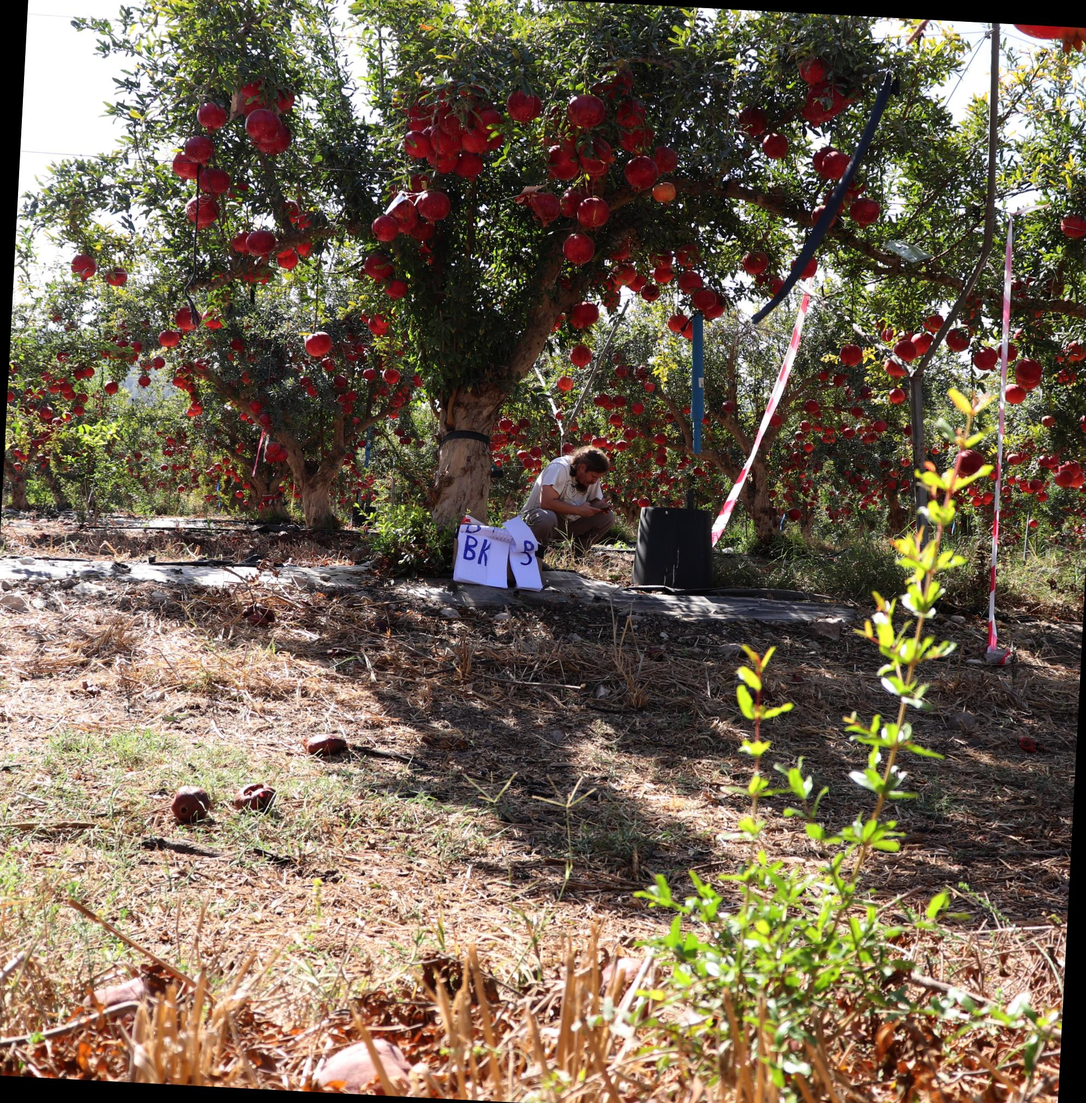pomegranates: (1006, 24, 1086, 61), (565, 92, 606, 134), (588, 63, 635, 99), (805, 84, 846, 122), (244, 108, 283, 147), (505, 89, 543, 127), (544, 144, 581, 183), (446, 78, 487, 113), (623, 155, 659, 194), (437, 106, 473, 143), (417, 190, 452, 228), (185, 194, 221, 230), (256, 124, 293, 158), (429, 126, 463, 161), (562, 233, 595, 269), (617, 125, 655, 156), (197, 168, 231, 202), (733, 106, 768, 139), (849, 196, 881, 232), (401, 129, 433, 164), (195, 101, 227, 135), (798, 55, 830, 89), (616, 97, 647, 131), (172, 150, 203, 184), (390, 85, 422, 117), (184, 135, 215, 168), (461, 128, 492, 159), (245, 229, 276, 260), (363, 254, 394, 285), (263, 86, 296, 115), (821, 150, 851, 181), (1014, 357, 1044, 387), (452, 153, 483, 182), (173, 306, 202, 336), (303, 330, 332, 360), (421, 88, 451, 116), (572, 300, 600, 330), (475, 108, 504, 136), (371, 214, 399, 243), (762, 132, 790, 161), (972, 345, 1000, 373), (834, 79, 863, 106), (425, 152, 459, 175), (653, 146, 679, 176), (70, 253, 97, 281), (810, 204, 838, 231), (741, 250, 769, 277), (956, 449, 985, 475), (704, 292, 728, 323), (790, 256, 818, 282), (388, 177, 418, 201), (391, 196, 416, 224), (812, 146, 836, 175), (800, 108, 833, 129), (610, 262, 636, 288), (1060, 215, 1086, 241), (391, 211, 418, 236), (678, 269, 703, 296), (946, 327, 971, 354), (404, 172, 435, 193), (692, 289, 717, 315), (675, 244, 699, 271), (652, 181, 677, 206), (202, 307, 226, 333), (892, 340, 919, 363), (408, 110, 436, 132), (827, 188, 849, 216), (410, 220, 436, 243), (227, 182, 253, 205), (230, 230, 251, 258), (374, 307, 397, 332), (384, 278, 408, 301), (911, 332, 934, 356), (839, 344, 862, 368), (884, 358, 908, 381), (241, 80, 266, 102), (609, 240, 630, 266), (648, 248, 674, 269), (104, 266, 128, 288), (843, 179, 866, 201), (652, 265, 675, 287), (1004, 384, 1027, 406), (281, 200, 301, 225), (277, 251, 299, 273), (158, 329, 180, 351), (367, 317, 389, 338), (668, 313, 689, 335), (922, 314, 944, 335), (471, 98, 494, 118), (241, 100, 265, 119), (603, 269, 622, 293), (1058, 459, 1082, 478), (1066, 339, 1086, 361), (1054, 469, 1074, 491), (629, 273, 648, 296), (601, 291, 621, 312), (640, 283, 660, 303), (767, 277, 785, 299), (755, 272, 774, 291), (557, 273, 577, 291), (965, 292, 983, 312), (296, 210, 315, 228), (296, 241, 315, 259), (564, 312, 583, 329), (1057, 369, 1076, 385), (243, 269, 261, 285), (490, 132, 505, 150), (1071, 471, 1085, 490), (592, 268, 605, 288), (259, 270, 275, 286), (682, 321, 693, 343), (277, 246, 294, 260), (551, 315, 564, 333), (1079, 413, 1086, 436)
